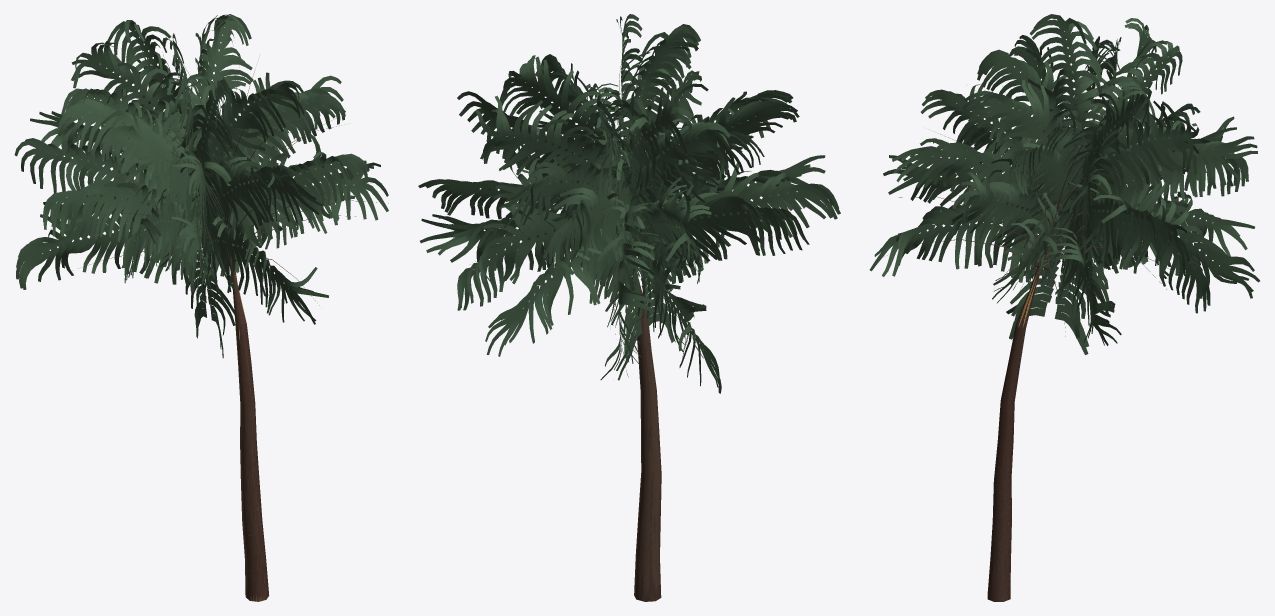
Rendered from palmtree.fbx.
The picture shows the model from 3 angles, left to right: view 1: azimuth 30°, elevation 25°; view 2: azimuth 150°, elevation 25°; view 3: azimuth 270°, elevation 25°; orthographic projection. The views are drawn at different scales.
Parts seen in each view (by area): view 1: palmYoungLight1Leaf, palmYoungLight1Main; view 2: palmYoungLight1Leaf, palmYoungLight1Main; view 3: palmYoungLight1Leaf, palmYoungLight1Main.
Boxes of the visible parts, x1,y1,x2,y2 form: palmYoungLight1Leaf: (14, 14, 388, 358); palmYoungLight1Main: (85, 62, 388, 601); palmYoungLight1Leaf: (418, 14, 840, 393); palmYoungLight1Main: (475, 37, 708, 601); palmYoungLight1Leaf: (869, 14, 1259, 354); palmYoungLight1Main: (887, 69, 1176, 601).
Size of the model in its own units: 4.69 by 7.42 by 4.73.
2 materials, 1 textured.
